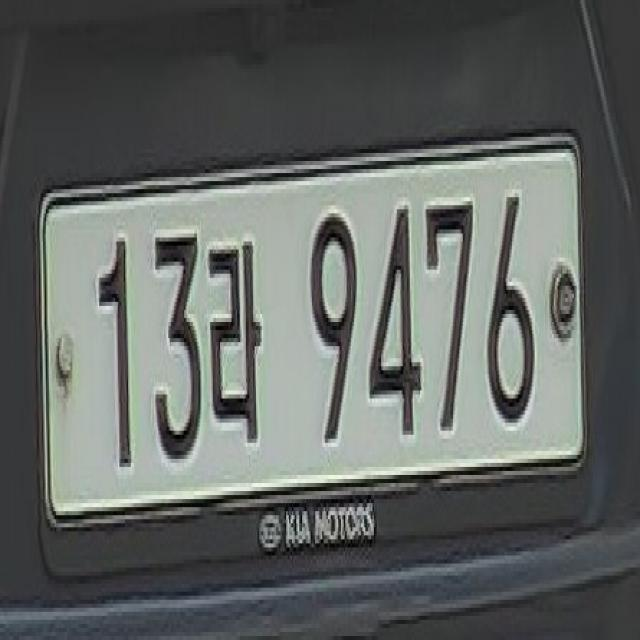1: (93, 225, 141, 483)
3: (147, 213, 206, 479)
4: (366, 193, 424, 451)
6: (482, 173, 541, 435)
7: (424, 181, 482, 439)
9: (306, 197, 361, 467)
la: (204, 217, 273, 463)
license_plate: (31, 109, 592, 592)
